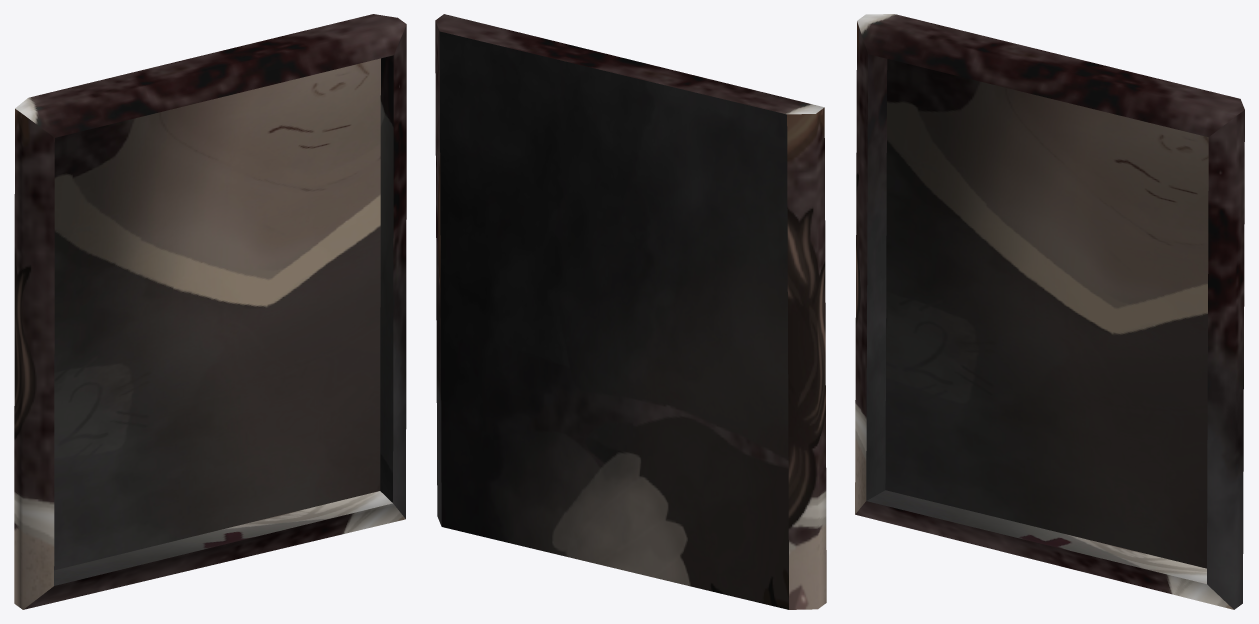
File: portrait-frames.fbx
The picture shows the model from 3 angles, left to right: view 1: azimuth 30°, elevation 25°; view 2: azimuth 150°, elevation 25°; view 3: azimuth 330°, elevation 25°; orthographic projection.
Visible parts, largest first — view 1: portrait_badpicture, portrait_badframe; view 2: portrait_badframe; view 3: portrait_badpicture, portrait_badframe.
Boxes of the visible parts, bbox=[...] form: portrait_badpicture: bbox=[54, 58, 380, 570]; portrait_badframe: bbox=[14, 14, 406, 609]; portrait_badframe: bbox=[435, 14, 826, 609]; portrait_badpicture: bbox=[885, 59, 1208, 568]; portrait_badframe: bbox=[855, 14, 1244, 609].
Bounding box in the file's own units: 25.68 × 31.77 × 3.22.
